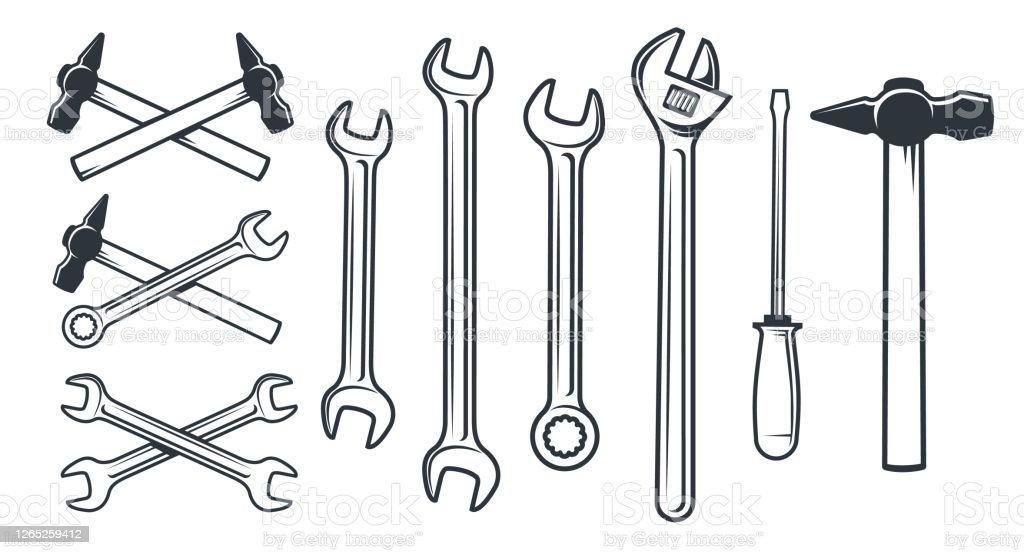Job: (34, 345, 302, 526), (313, 85, 404, 491)
